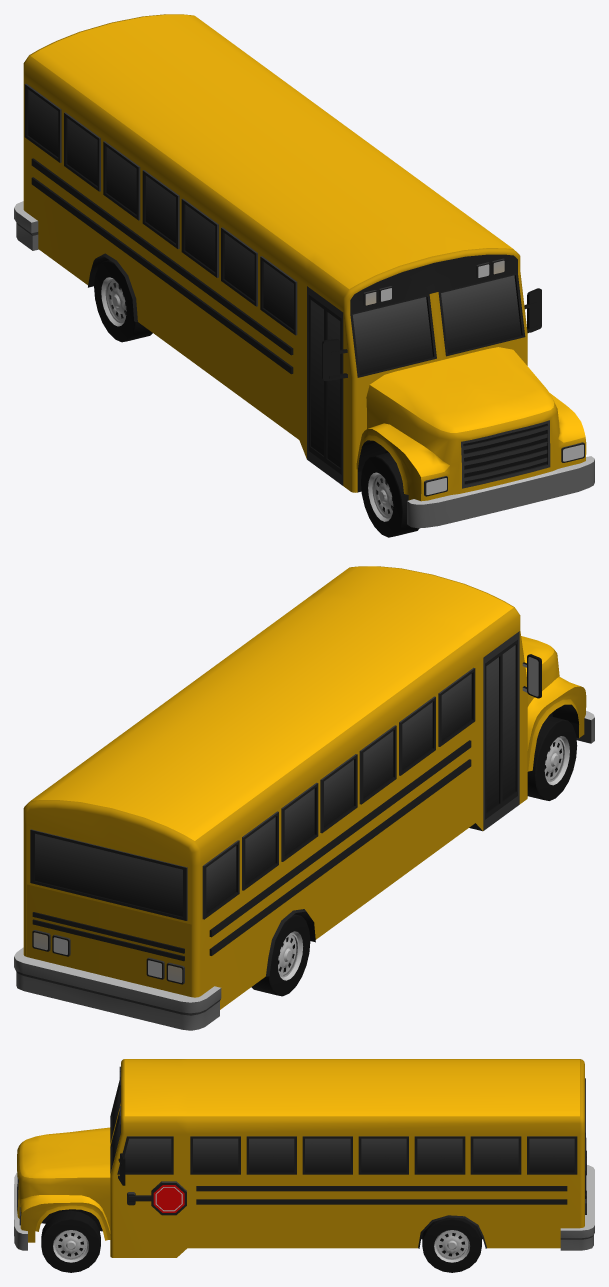
File: XiaoChe00.fbx
3 views of the same model, one above another, from view 1: azimuth 30°, elevation 25°; view 2: azimuth 150°, elevation 25°; view 3: azimuth 270°, elevation 25° (orthographic). The views are drawn at different scales.
Visible parts, largest first — view 1: XiaoChe00; view 2: XiaoChe00; view 3: XiaoChe00.
Boxes of the visible parts, left/top/right/bottom form: XiaoChe00: left=14, top=14, right=594, bottom=537; XiaoChe00: left=14, top=566, right=594, bottom=1030; XiaoChe00: left=14, top=1059, right=594, bottom=1272.
Bounding box in the file's own units: 369 × 370 × 1188.
